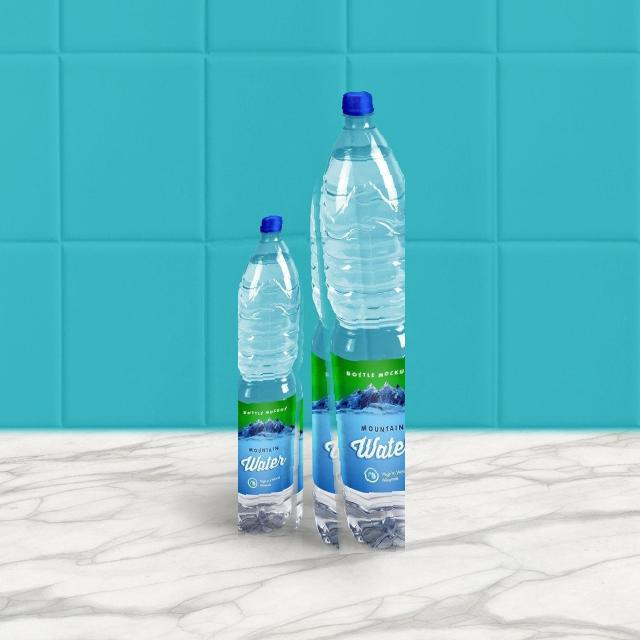plastic bottle: (305, 90, 405, 554), (238, 214, 308, 540)
